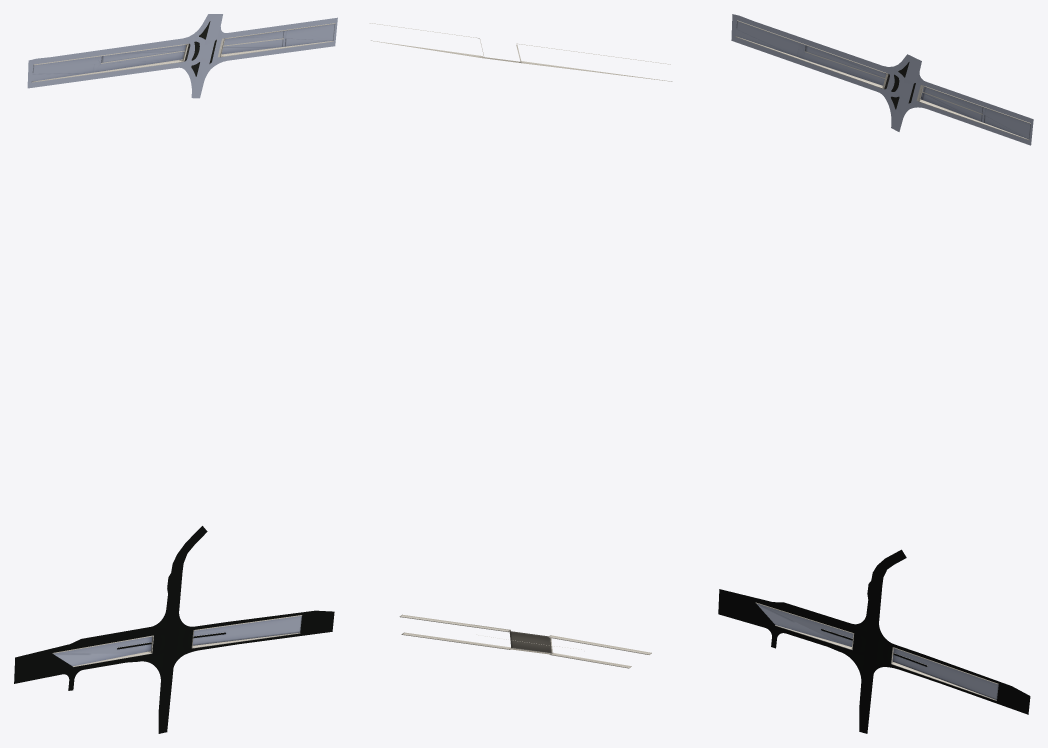
3 views of the same model, side by side, from view 1: azimuth 30°, elevation 25°; view 2: azimuth 150°, elevation 25°; view 3: azimuth 330°, elevation 25° (orthographic). The views are drawn at different scales.
Parts seen in each view (by area): view 1: world; view 2: world; view 3: world.
Part boxes in pixels (<box>): world: <box>14,14,337,733</box>; world: <box>369,23,672,668</box>; world: <box>718,14,1033,733</box>.
Size of the model in its own units: 594 by 1242 by 8.02.
Materials: 1 (1 with a texture image).
